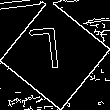L_S: (37, 28, 73, 82)
